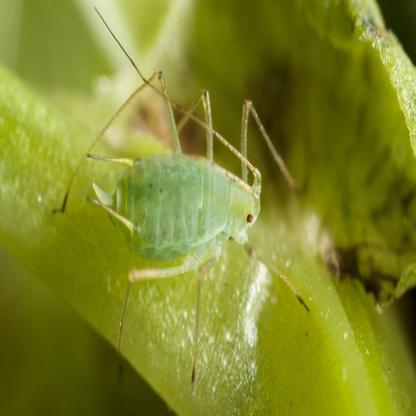aphid: (56, 62, 309, 352)
